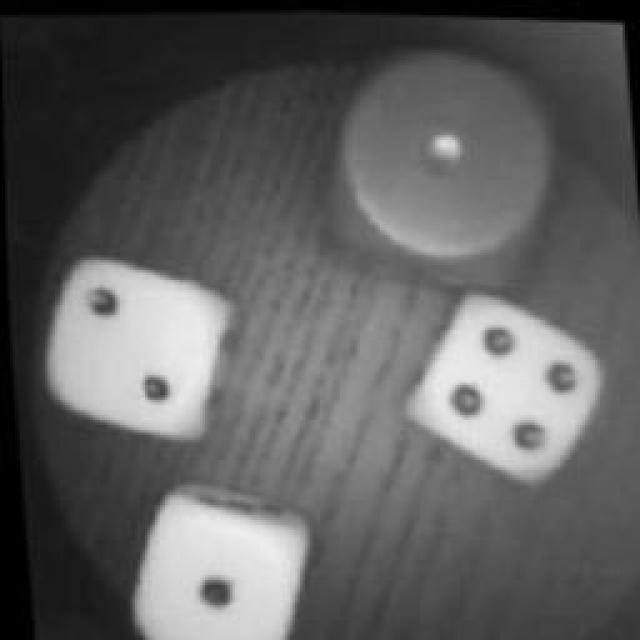dice_1: (318, 26, 562, 299), (113, 470, 325, 640)
dice_2: (28, 242, 242, 460)
dice_4: (400, 271, 610, 491)
